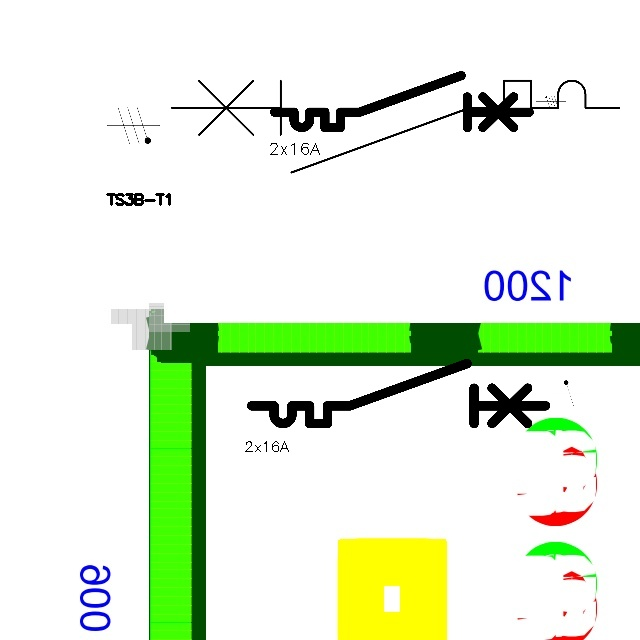interruptor_termomagnetico: (160, 69, 631, 184), (244, 356, 553, 431), (268, 69, 536, 134)
